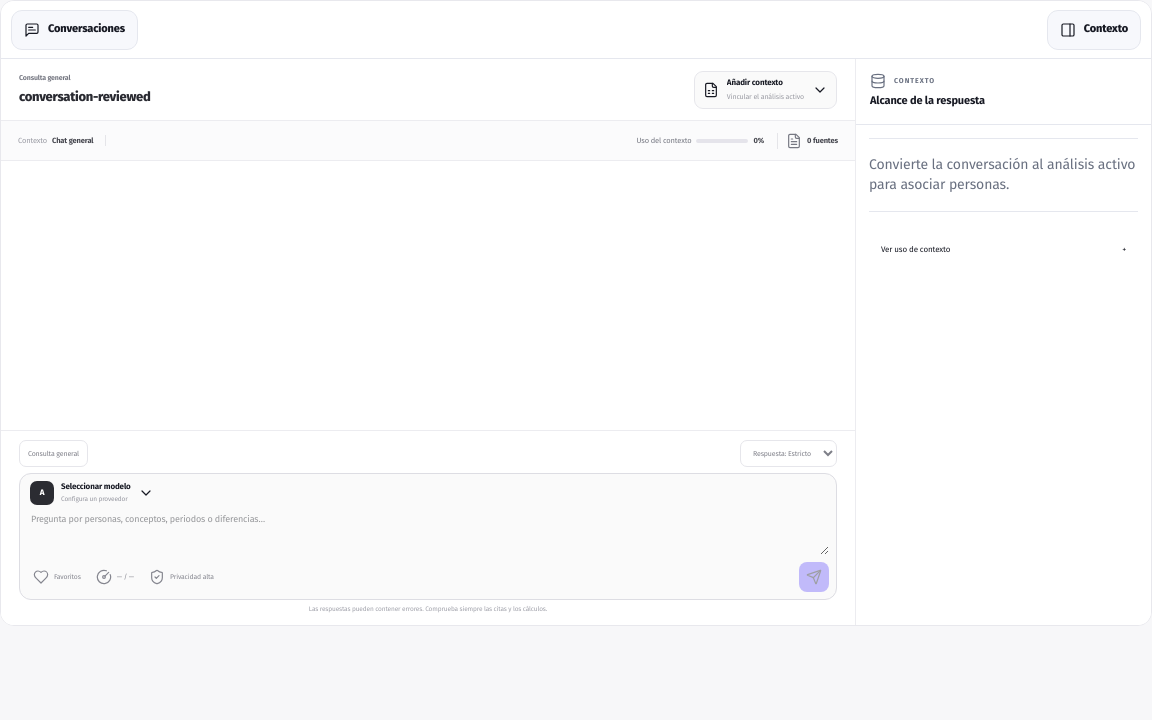
Phase 5 reviewed provider behavior › retry resumes in place and regenerate replaces the assistant response without duplicating the user turn
The width and height of the screenshot is (1152, 720).
Check: the heading "conversation-reviewed" is shown, box x1=19 y1=87 x2=150 y2=106
In the text box labelled "Pregunta": (428, 530) x1=27 y1=505 x2=829 y2=555, type "¿Qué es Cuadre Reg.?"
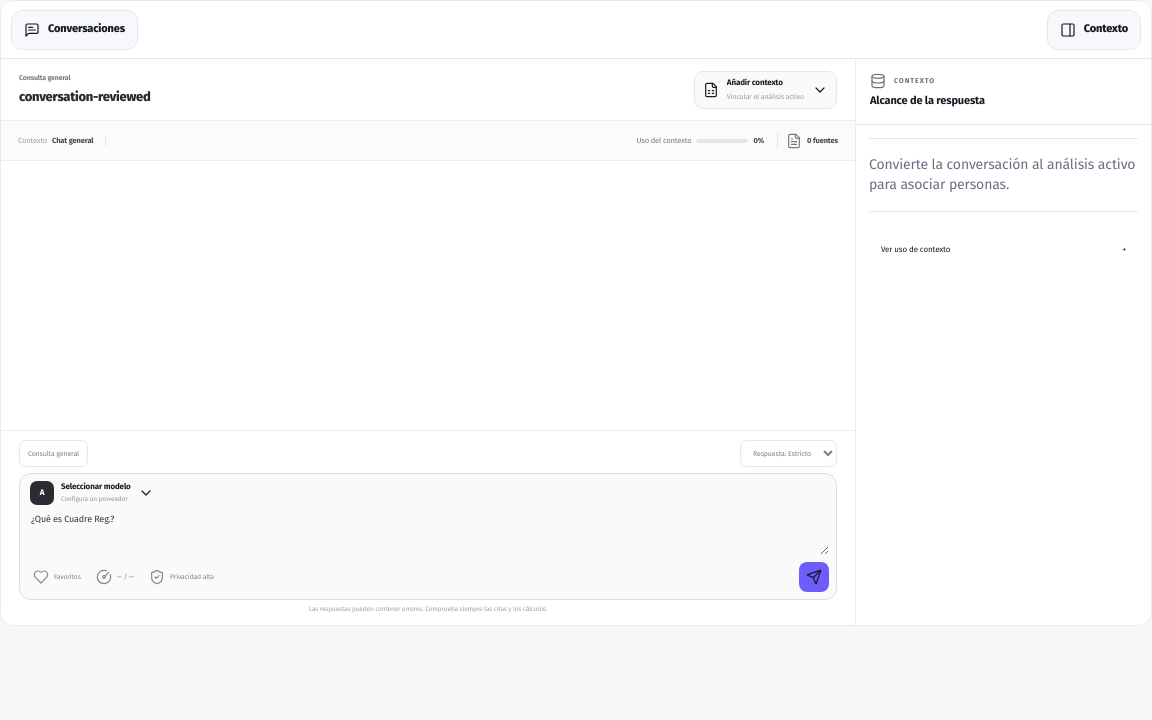
Press Enter in the text box named "Pregunta", box x1=27 y1=505 x2=829 y2=555
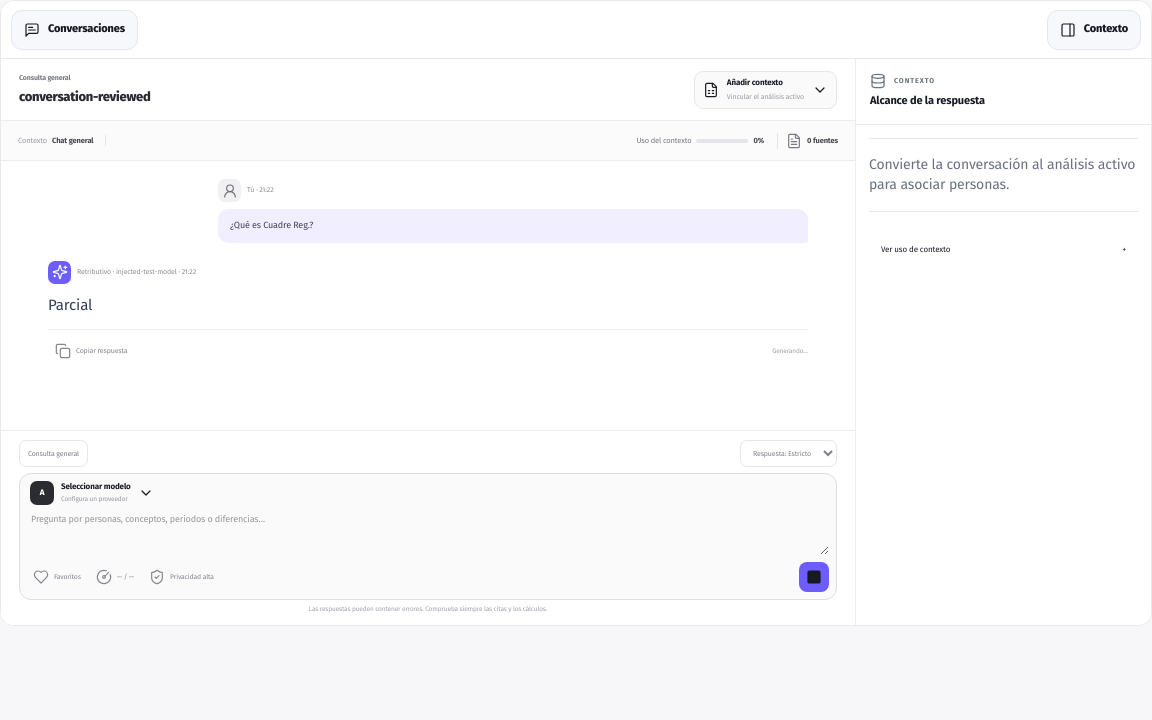
Check: the text "Parcial" is shown, box x1=48 y1=296 x2=92 y2=314
Click the button named "Detener respuesta": (814, 577) x1=799 y1=562 x2=829 y2=592
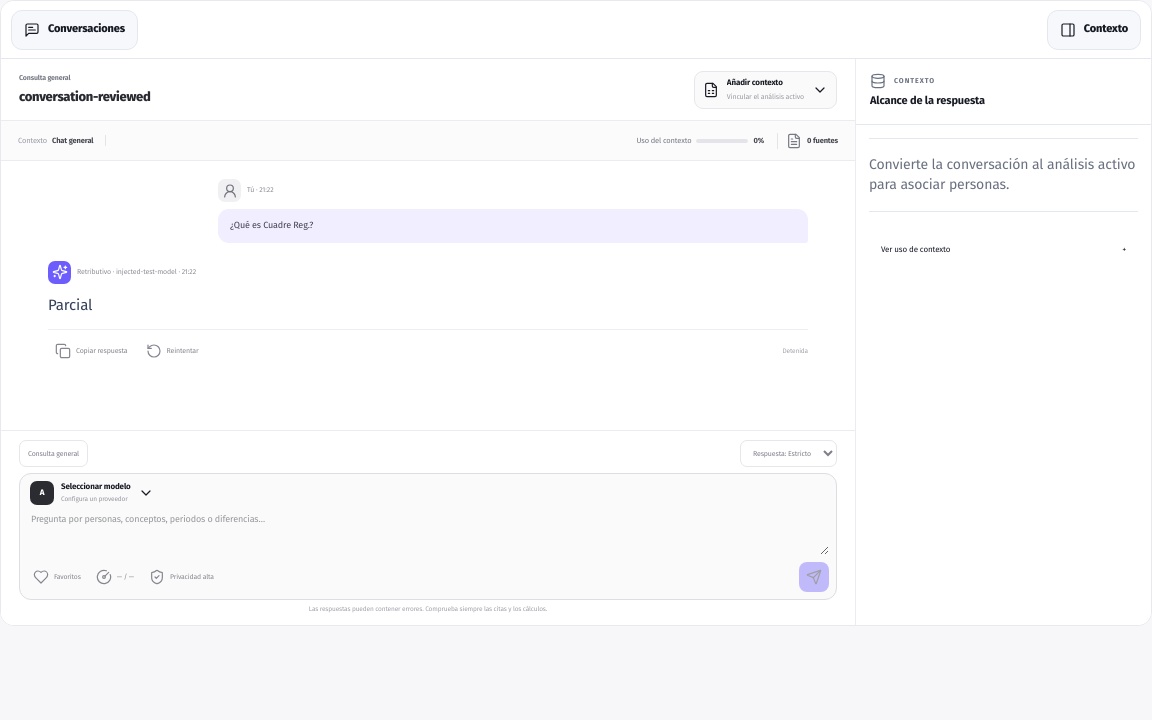
Click the button with aria-label "Reintentar respuesta": (172, 351) x1=138 y1=337 x2=206 y2=365
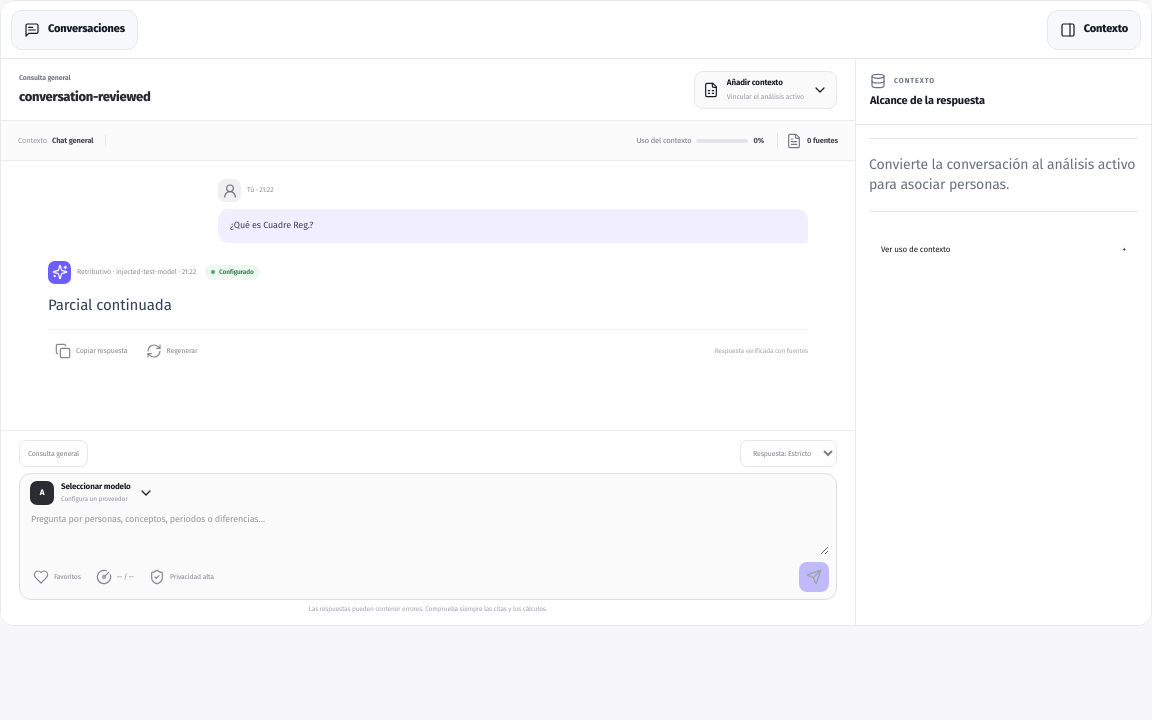
Check: the number of elements named "Tu pregunta" is 1, box x1=218 y1=179 x2=808 y2=243
Check: the number of elements named "Respuesta del Asistente" is 1, box x1=48 y1=261 x2=808 y2=365
Check: the text "Parcial continuada" is shown, box x1=48 y1=296 x2=172 y2=314
Click the button with aria-label "Regenerar respuesta": (172, 351) x1=138 y1=337 x2=204 y2=365
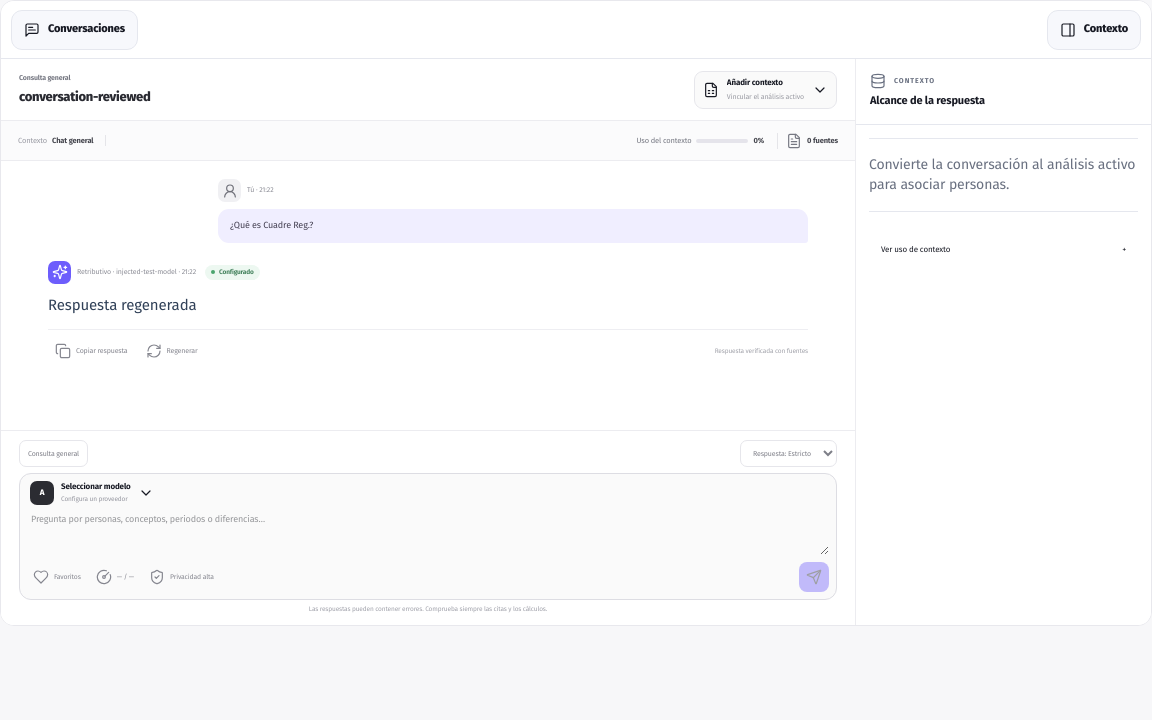
Check: the number of elements named "Tu pregunta" is 1, box x1=218 y1=179 x2=808 y2=243
Check: the text "Respuesta regenerada" is shown, box x1=48 y1=296 x2=196 y2=314
Check: the text "Parcial continuada" is gone
